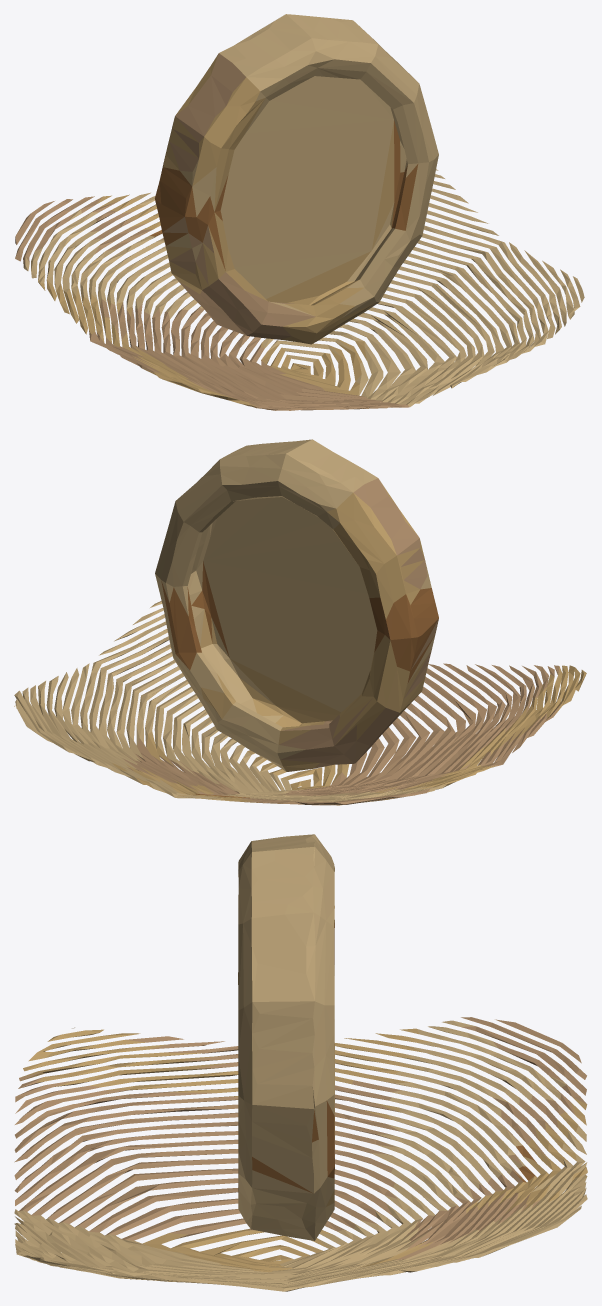
Rendered from coin.glb.
3 views of the same model, one above another, from view 1: azimuth 30°, elevation 25°; view 2: azimuth 150°, elevation 25°; view 3: azimuth 270°, elevation 25° (orthographic). The views are drawn at different scales.
Parts seen in each view (by area): view 1: geometry_0; view 2: geometry_0; view 3: geometry_0.
Boxes of the visible parts, bbox=[...] form: geometry_0: bbox=[15, 14, 584, 410]; geometry_0: bbox=[14, 439, 586, 805]; geometry_0: bbox=[14, 834, 587, 1291].
Size of the model in its own units: 1.99 by 1.59 by 1.99.
